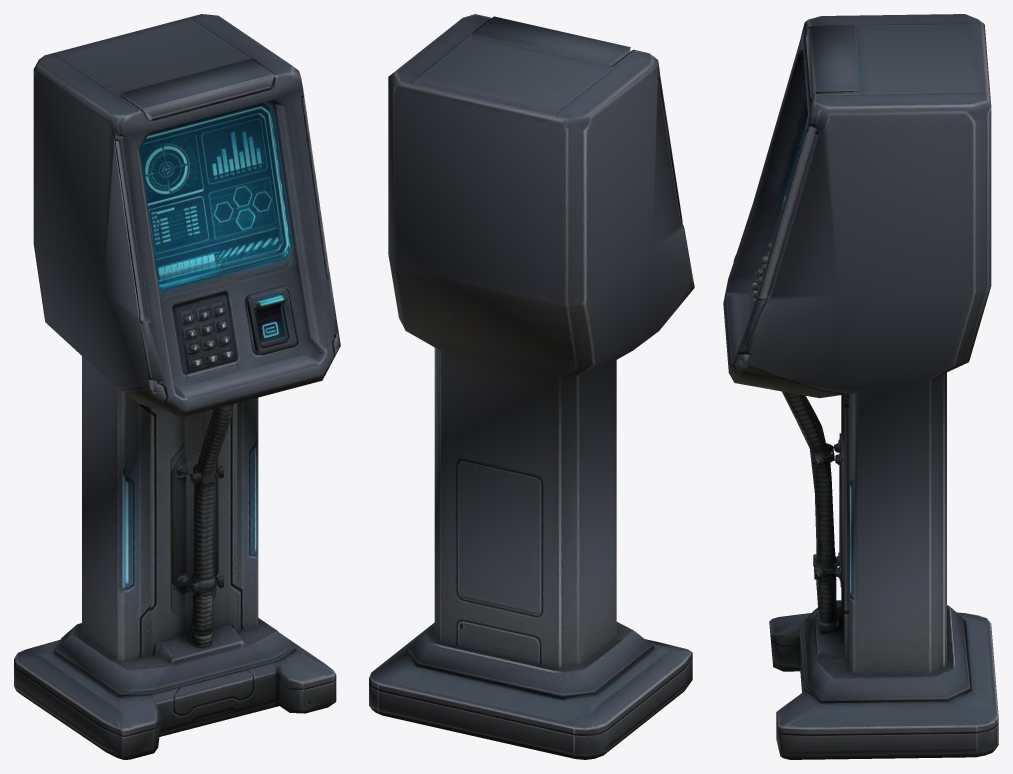
Rendered from score_terminal.glb.
The picture shows the model from 3 angles, left to right: view 1: azimuth 30°, elevation 25°; view 2: azimuth 150°, elevation 25°; view 3: azimuth 270°, elevation 25°; orthographic projection. The views are drawn at different scales.
Visible parts, largest first — view 1: TesanaFacingY180; view 2: TesanaFacingY180; view 3: TesanaFacingY180.
Boxes of the visible parts, x1,y1,x2,y2 form: TesanaFacingY180: (14, 14, 340, 759); TesanaFacingY180: (369, 14, 694, 759); TesanaFacingY180: (723, 14, 998, 759).
Size of the model in its own units: 0.4625 by 1.2 by 0.4639.
1 material, 1 textured.
